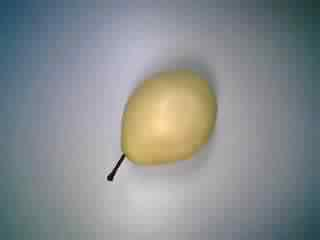pear: (102, 61, 224, 186)
